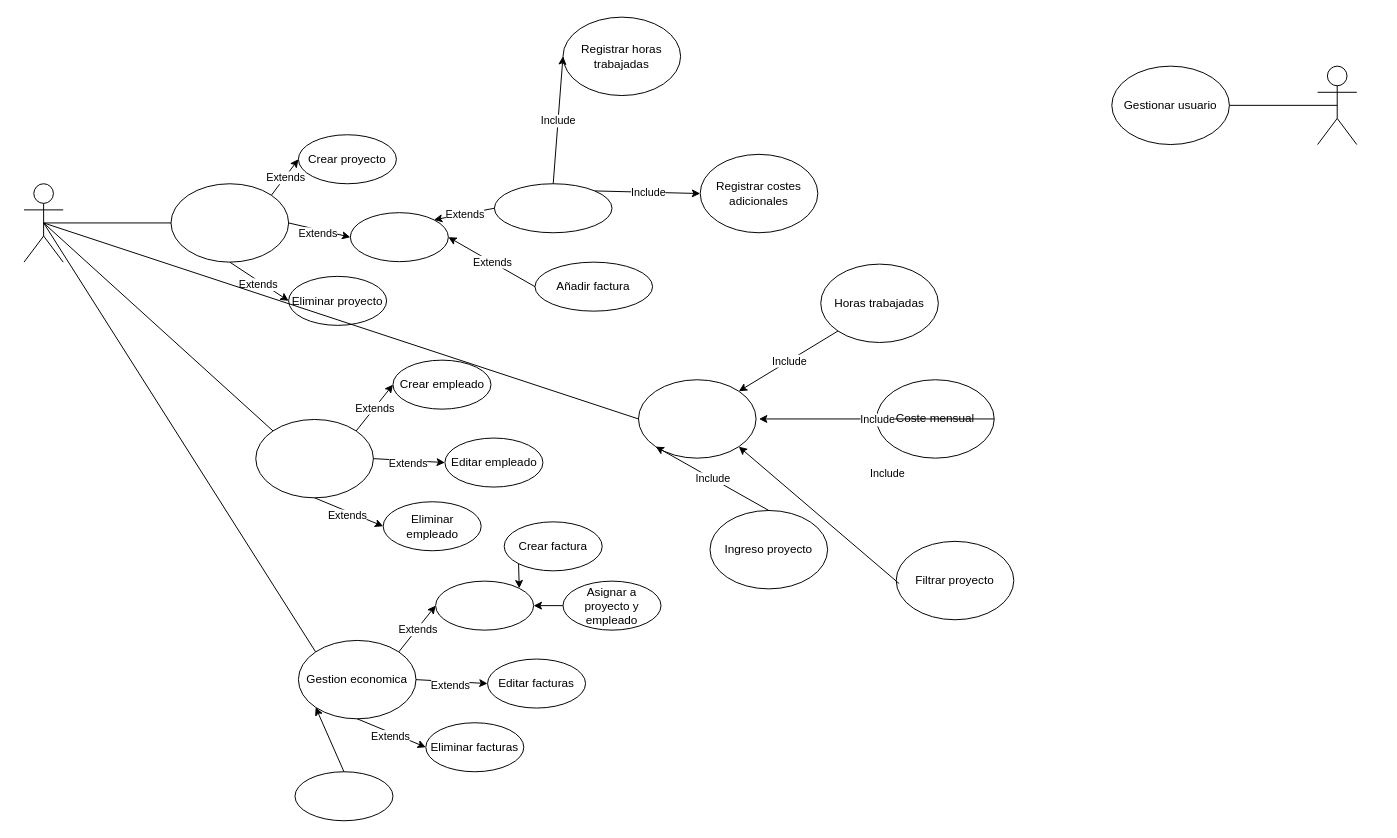
Some shapes in this 1397 by 838 pixel diagram are drawn without their labels. The box of each missing label's shape, as (x1, y1, x2, y2) in pixels:
Añadir/Borrar empleado: (493, 183, 612, 233)
Cargar horas al proyecto: (294, 771, 393, 821)
Editar proyecto: (349, 212, 448, 262)
Empleado: (23, 183, 63, 262)
Gestionar empleado: (255, 418, 373, 498)
Gestionar facturas: (435, 580, 534, 630)
Gestionar proyecto: (170, 183, 289, 262)
Jefe de proyecto: (1317, 65, 1357, 145)
Ver estadisticas: (637, 379, 756, 458)
